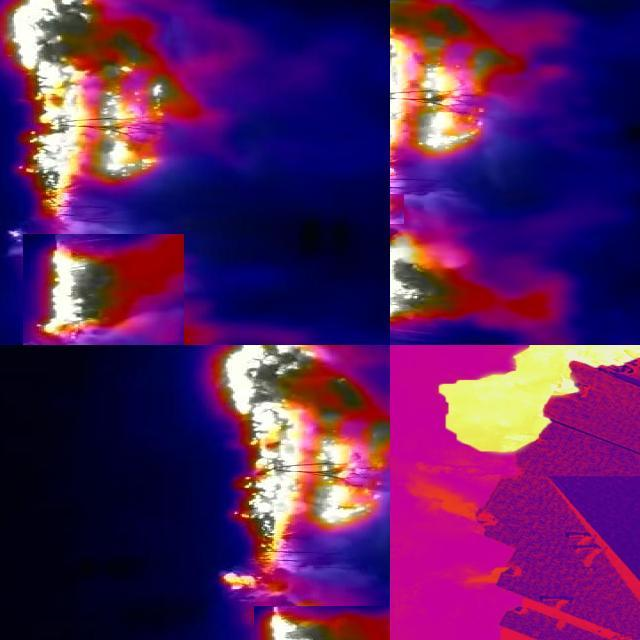fire: (2, 1, 210, 219), (217, 346, 391, 598), (391, 346, 640, 466), (391, 1, 508, 191), (23, 235, 184, 346), (391, 230, 506, 330), (254, 607, 390, 640)
